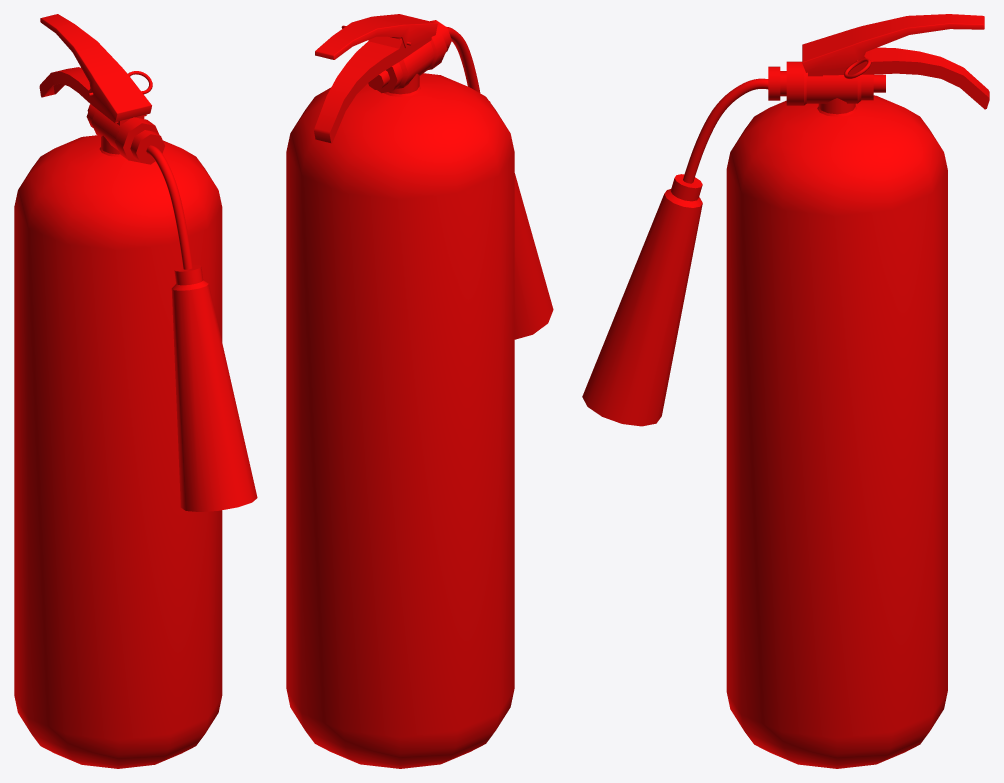
Rendered from ognetushitel.FBX.
3 views of the same model, side by side, from view 1: azimuth 30°, elevation 25°; view 2: azimuth 150°, elevation 25°; view 3: azimuth 270°, elevation 25° (orthographic). The views are drawn at different scales.
Parts seen in each view (by area): view 1: tushka; view 2: tushka; view 3: tushka.
Boxes of the visible parts, left/top/right/bottom form: tushka: left=14, top=14, right=257, bottom=768; tushka: left=286, top=14, right=553, bottom=768; tushka: left=582, top=14, right=989, bottom=768.
Bounding box in the file's own units: 17.35 × 63.14 × 31.94.
